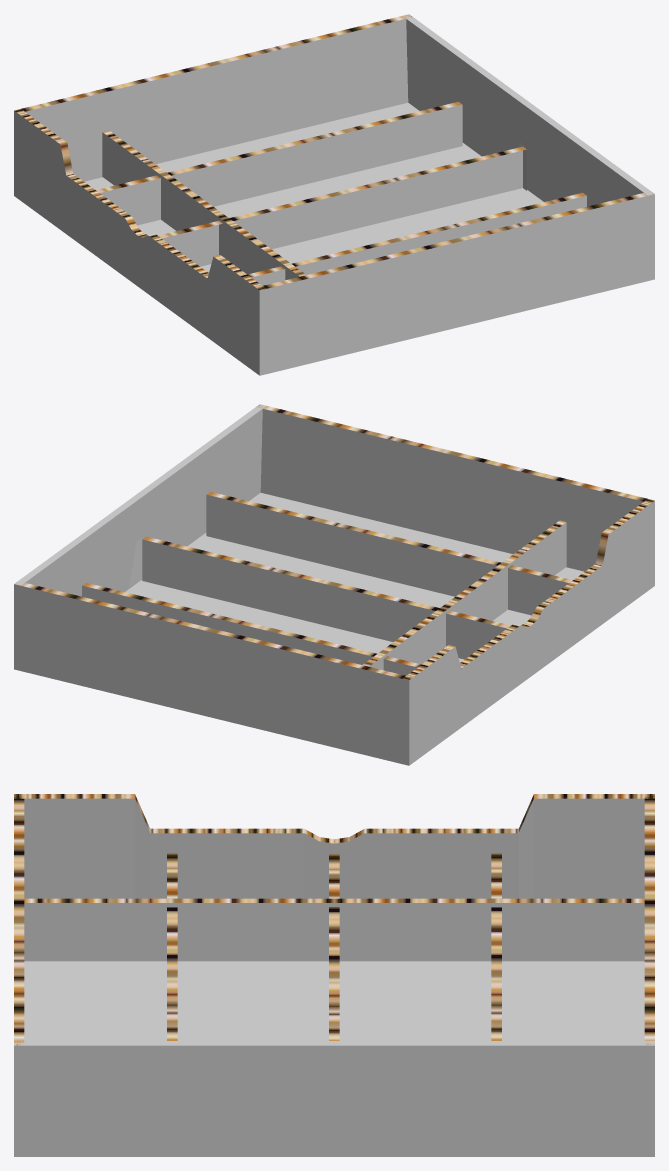
File: Register_Cardboard_Stand.fbx
The picture shows the model from 3 angles, top to bottom: view 1: azimuth 30°, elevation 25°; view 2: azimuth 150°, elevation 25°; view 3: azimuth 270°, elevation 25°; orthographic projection. The views are drawn at different scales.
Parts seen in each view (by area): view 1: Base.001; view 2: Base.001; view 3: Base.001.
Part boxes in pixels (x1,y1,x2,y2): Base.001: (14, 14, 654, 375); Base.001: (14, 404, 654, 765); Base.001: (14, 794, 654, 1156).
Bounding box in the file's own units: 41.2 × 8.51 × 44.38.
